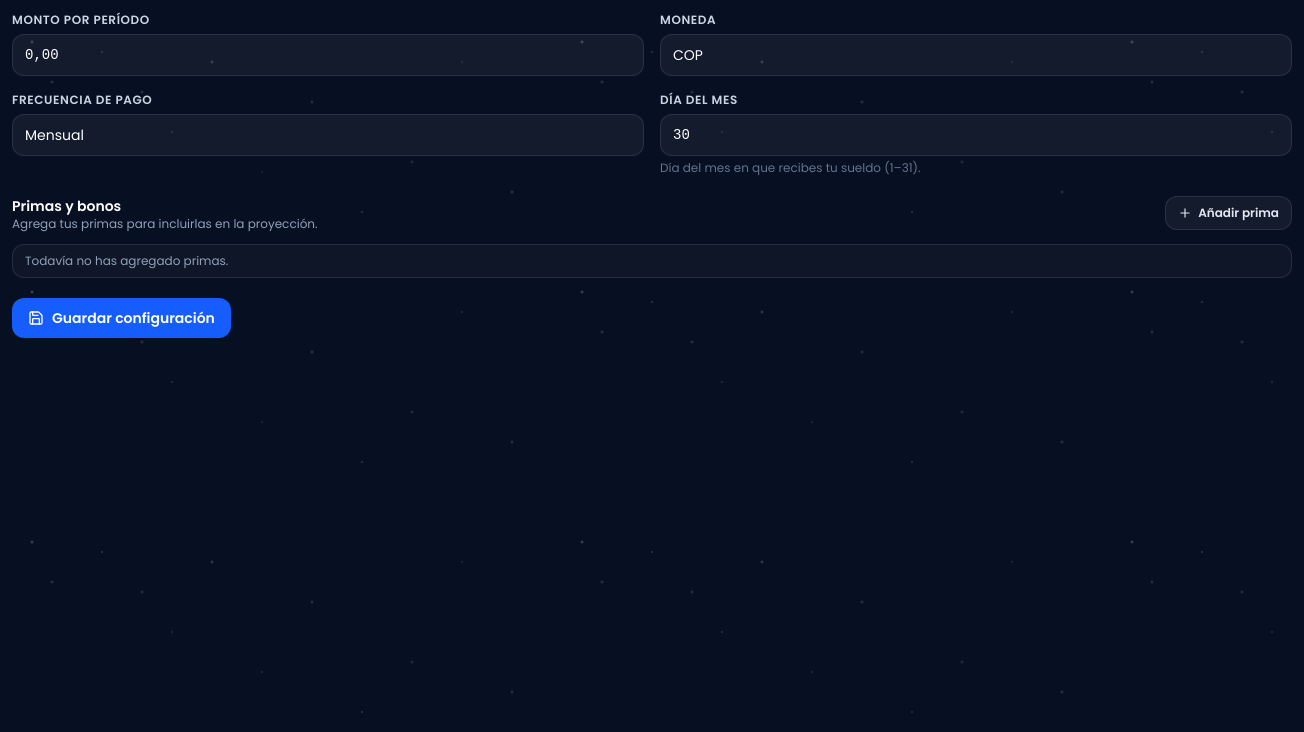
it: SalaryForm › switches to BIWEEKLY with two day-of-month inputs
Select "Quincenal" in the dropdown labelled "Frecuencia de pago". click: (328, 135)
box: [12,114,644,156]
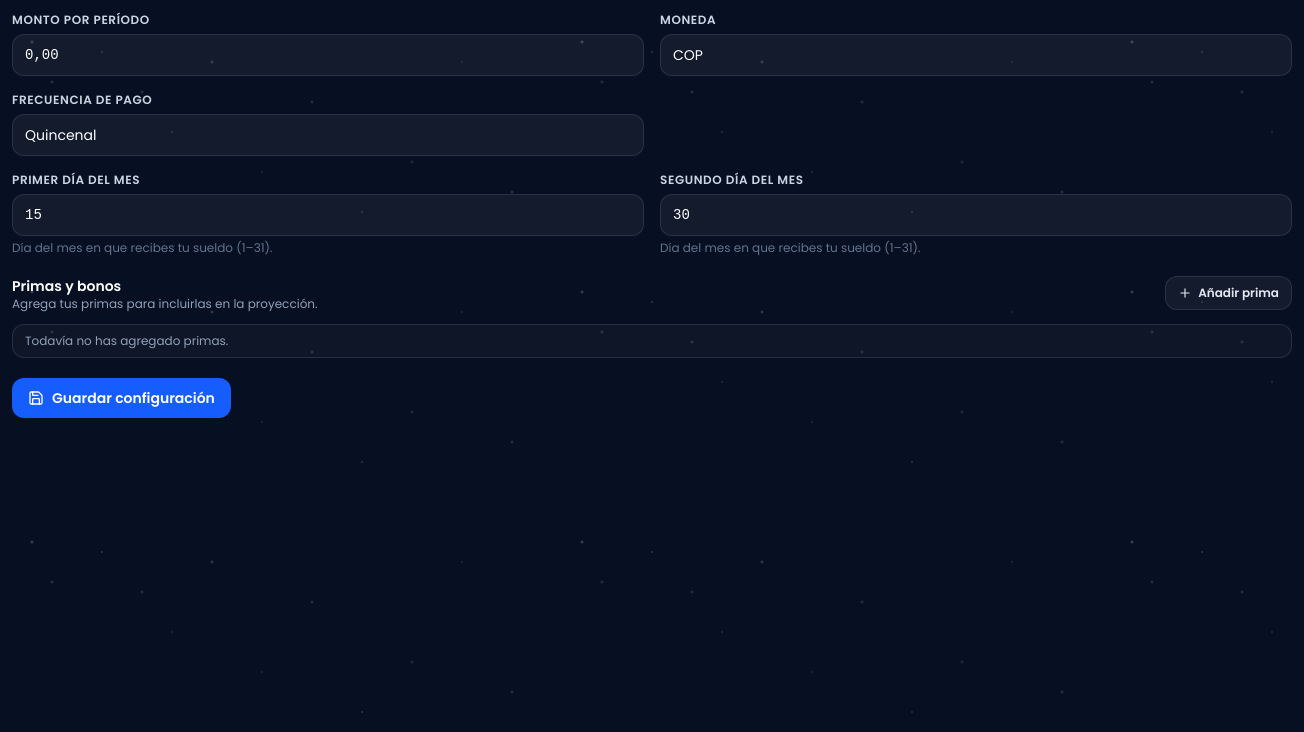
expect the number field labelled "Primer día del mes" holds "15": met, box [12,194,644,236]
expect the number field labelled "Segundo día del mes" holds "30": met, box [660,194,1292,236]
